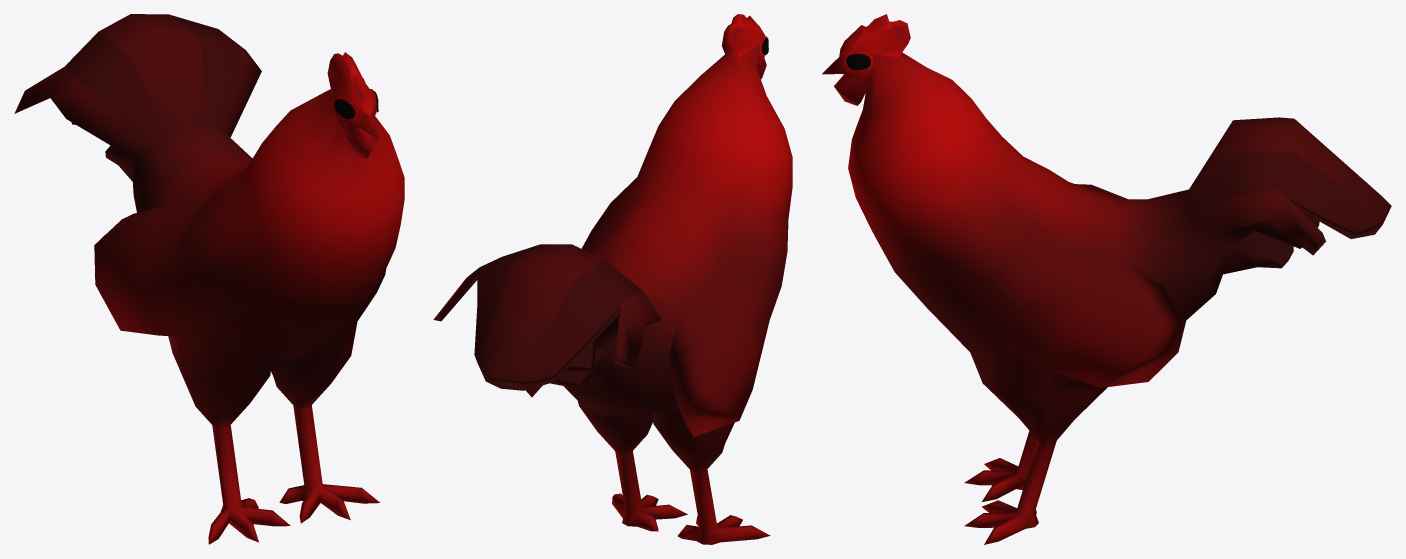
The model's file is rooster.fbx.
3 views of the same model, side by side, from view 1: azimuth 30°, elevation 25°; view 2: azimuth 150°, elevation 25°; view 3: azimuth 270°, elevation 25° (orthographic). The views are drawn at different scales.
Parts seen in each view (by area): view 1: rooster; view 2: rooster; view 3: rooster.
Part boxes in pixels (left/top/right/bottom): rooster: left=14, top=14, right=404, bottom=544; rooster: left=433, top=14, right=792, bottom=544; rooster: left=822, top=14, right=1391, bottom=544.
Size of the model in its own units: 361 by 789 by 748.
